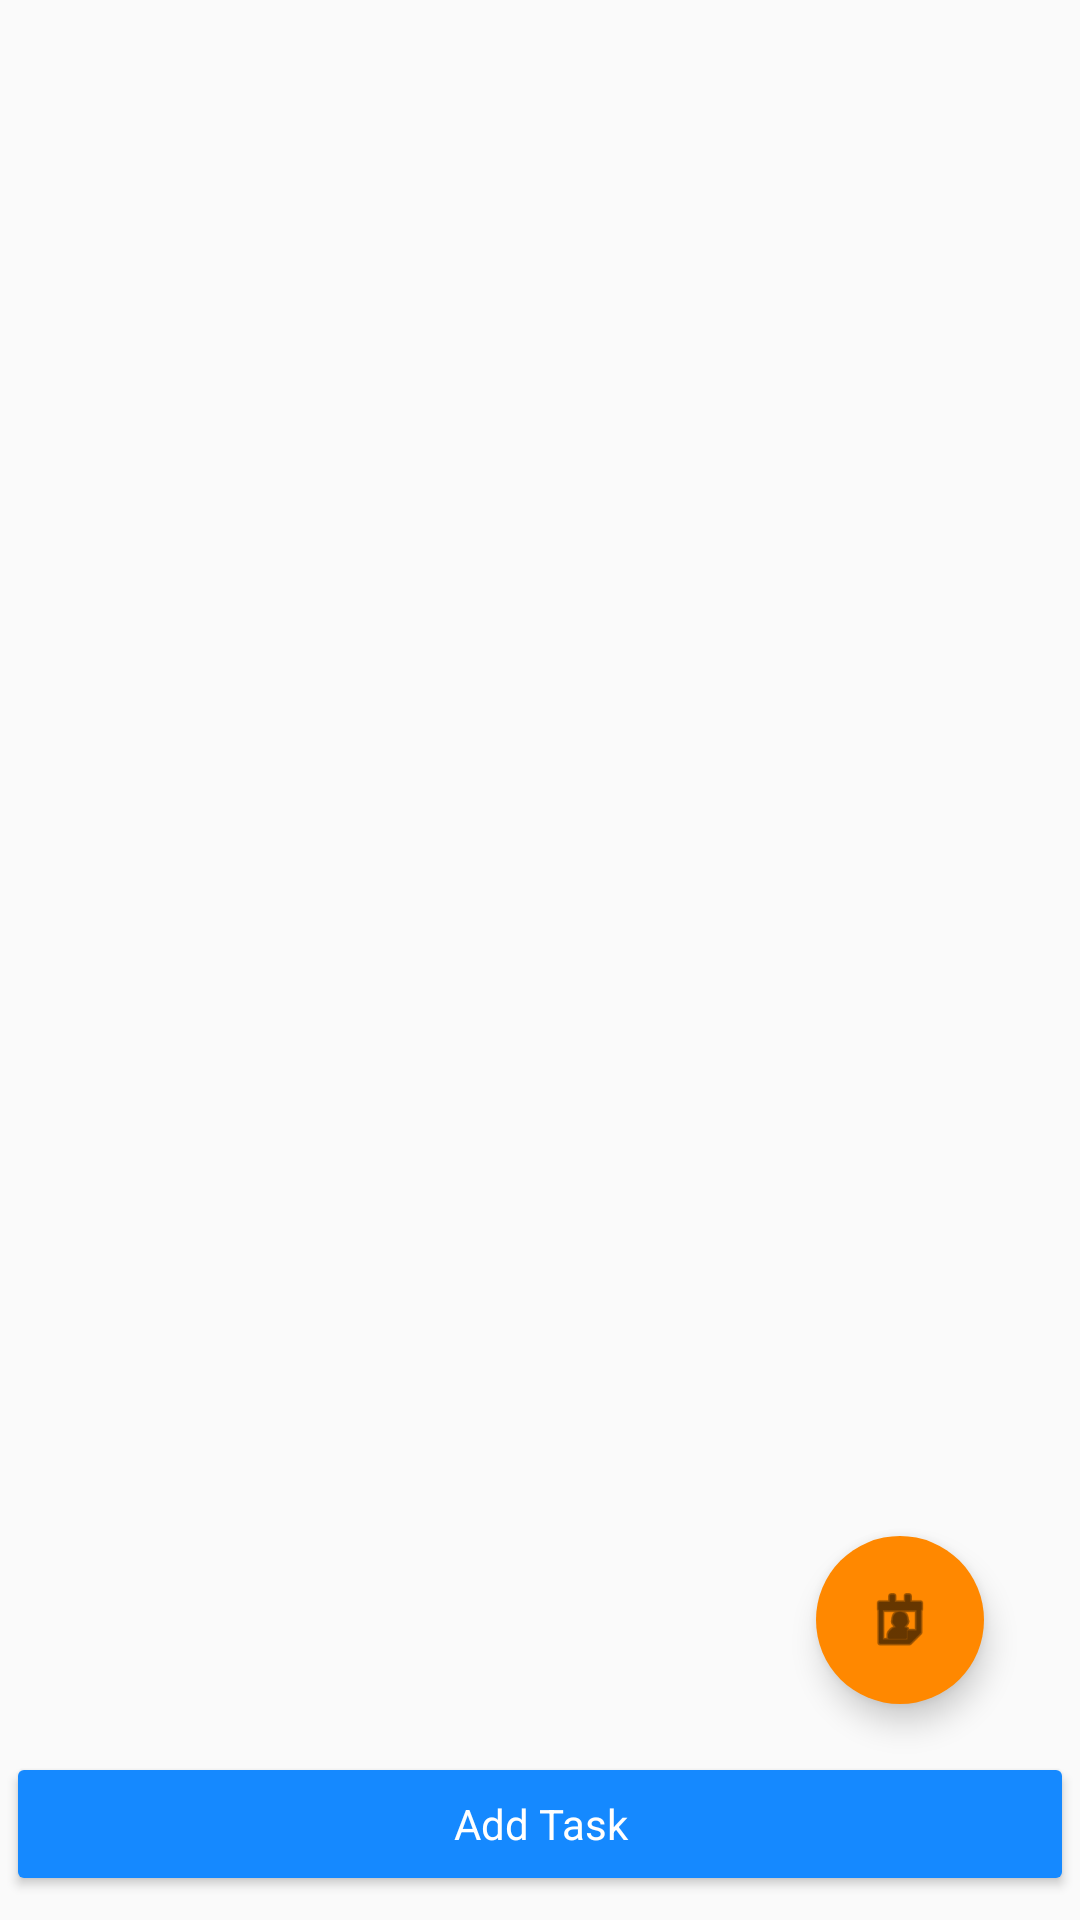

Screen size 1080x1920. Icon name, then its center in pixels as [x,y]:
calendar: [900,1620]
